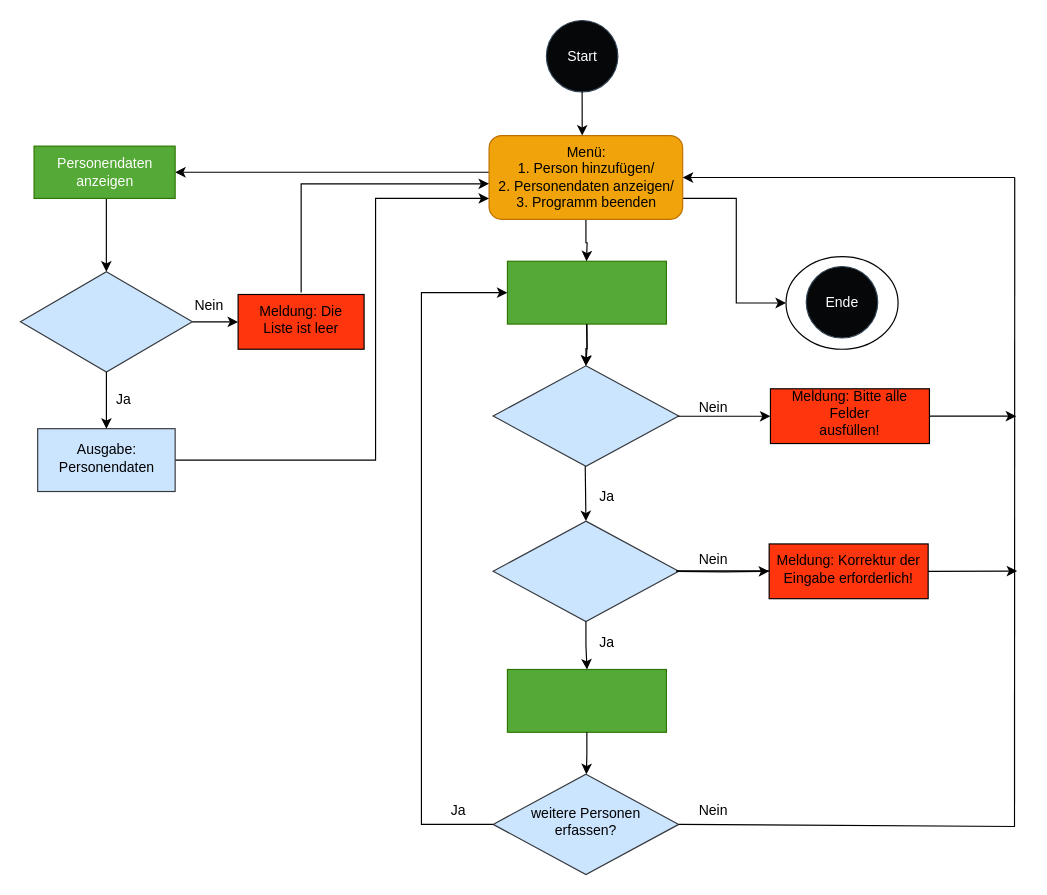
Image size: 1047x895. Some labels were removed from this diagram. The centre of each missing label's shape, as x and y in pixels:
Passen alle Eingabeformate bzw alles validiert?: the point at 585,571
Personendaten eingeben: the point at 586,292
sind alle Felder ausgefüllt?: the point at 585,415
Sind Daten in der Liste vorhanden?: the point at 105,321
Speichrung der validierten Daten in einer Liste + Erfolgsmeldung: the point at 586,700
